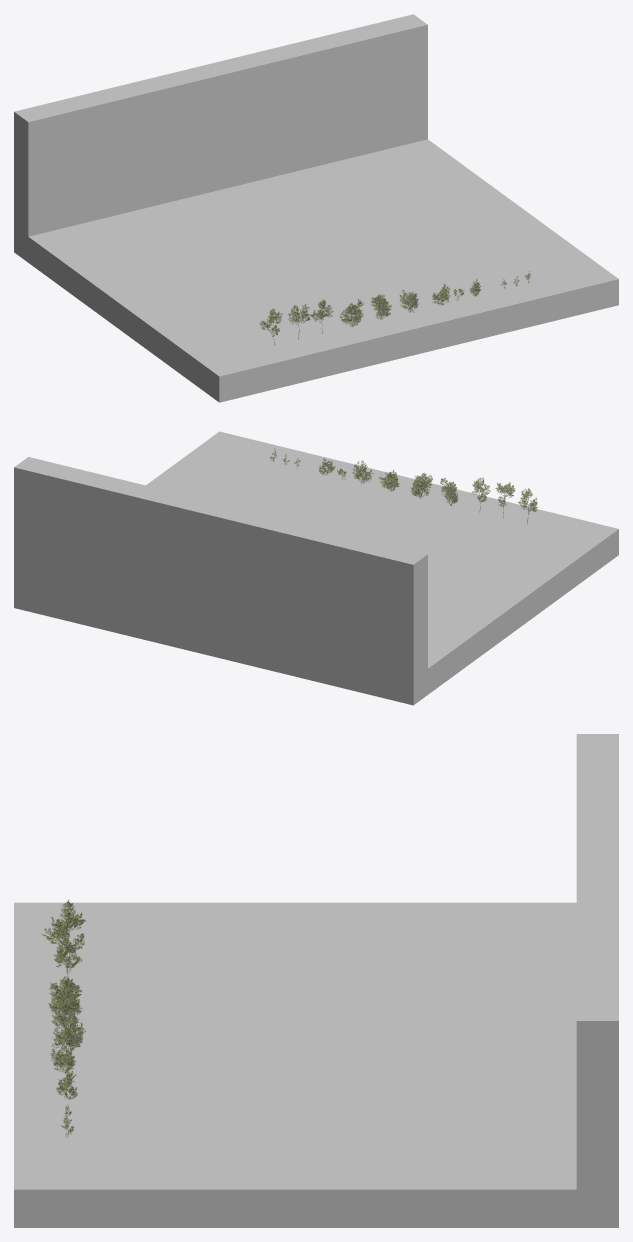
The picture shows the model from 3 angles, top to bottom: view 1: azimuth 30°, elevation 25°; view 2: azimuth 150°, elevation 25°; view 3: azimuth 270°, elevation 25°; orthographic projection. The views are drawn at different scales.
Parts seen in each view (by area): view 1: Plane; view 2: Plane, Lilac_bush_2_LOD0; view 3: Plane, Lilac_bush_2_LOD0.
Part boxes in pixels (x1=…): Plane: x1=14, y1=14, x2=618, y2=402; Plane: x1=14, y1=431, x2=618, y2=705; Lilac_bush_2_LOD0: x1=411, y1=473, x2=432, y2=498; Plane: x1=14, y1=734, x2=618, y2=1227; Lilac_bush_2_LOD0: x1=48, y1=993, x2=82, y2=1031.
Size of what is drawn, in the model's own units: 80 by 26.91 by 71.28.
